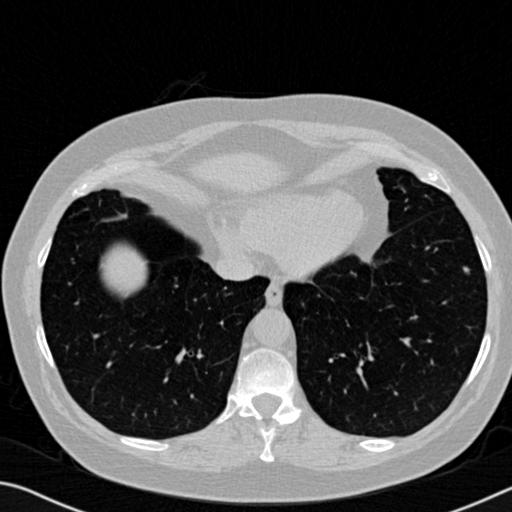nodule: (460, 263, 472, 275)
